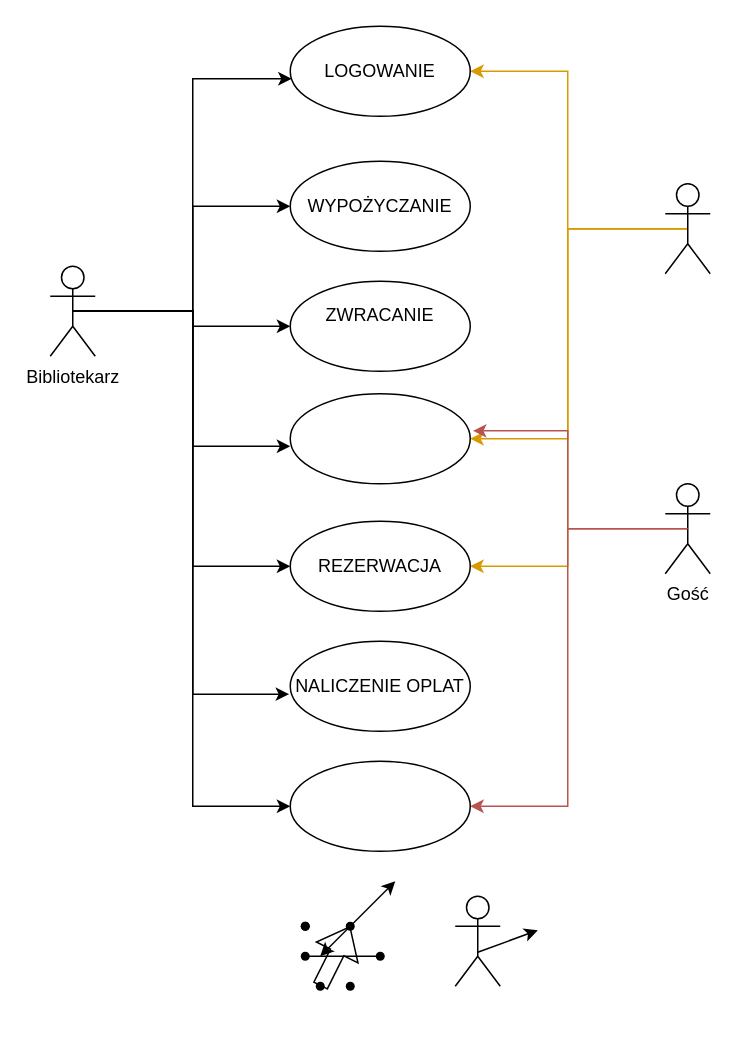
This 750x1044 diagram has some shape labels left out. The shapes that lost their labels are listed below. From the top down, each one's centre as x and y in pixels, then its label:
At point 687,228: "Czytelnik".
At point 379,438: "WYSZUKIWANIE".
At point 379,805: "REJESTROWANIE".
At point 477,940: "Actor".
